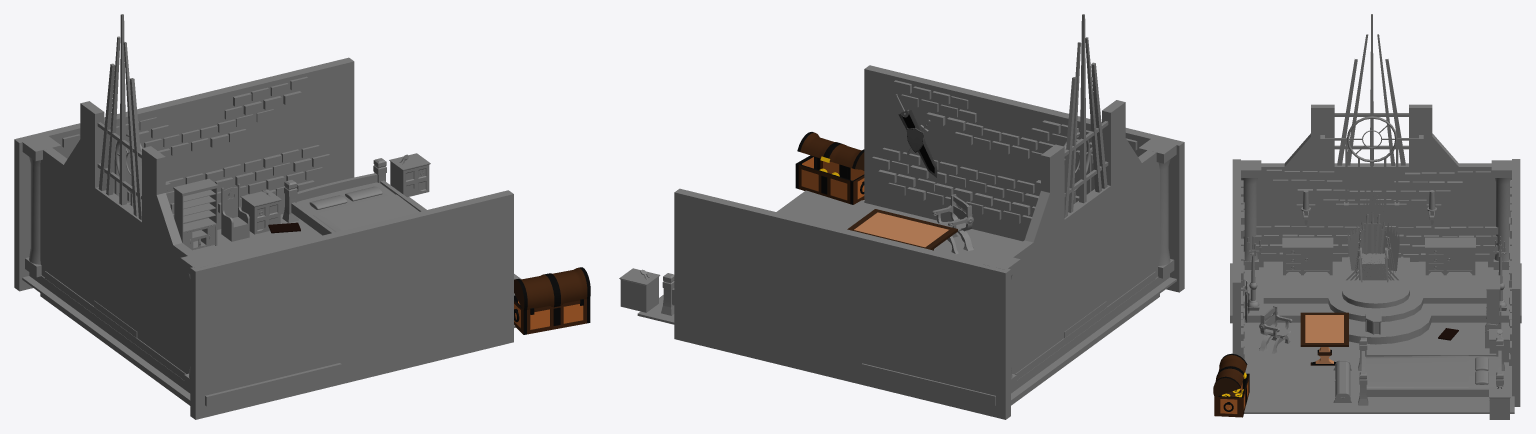
Rendered from CP_NabytekHraoTruny.obj.
3 views of the same model, side by side, from view 1: azimuth 30°, elevation 25°; view 2: azimuth 150°, elevation 25°; view 3: azimuth 270°, elevation 25° (orthographic). The views are drawn at different scales.
Parts seen in each view (by area): view 1: Stavba Purnoch_SinStrunem pCube255, Stavba Purnoch_SinStrunem pCube5, Stavba Purnoch_SinStrunem pCube256, Stavba Purnoch_SinStrunem pCube257, pCube1 Stavba Purnoch_SinStrunem, Project Jirku_Postel Bed pCylinder1, Stavba Purnoch_SinStrunem pCube21, Vejnarek_Nabytek pCylinder10 viko Truhla, Stavba Purnoch_SinStrunem pCube22, Vejnarek_Nabytek Truhla Viko Krabka, Project Jirku_Postel Night_Table1, Bounla MedievalCloset Base (+13 smaller); view 2: Stavba Purnoch_SinStrunem pCube256, Stavba Purnoch_SinStrunem pCube5, Stavba Purnoch_SinStrunem pCube255, Stavba Purnoch_SinStrunem pCube257, pCube1 Stavba Purnoch_SinStrunem, Stavba Purnoch_SinStrunem pCube22, Deska_stolu Stul Vejnarek_Nabytek, Vejnarek_Nabytek Truhla Viko Krabka, Stavba Purnoch_SinStrunem pCube21, Project Jirku_Postel Night_Table1, Vejnarek_Nabytek pCylinder10 viko Truhla, Stavba Purnoch_SinStrunem pCube2 (+7 smaller); view 3: Stavba Purnoch_SinStrunem pCube257, Stavba Purnoch_SinStrunem pCube5, Stavba Purnoch_SinStrunem pCube2, Project Jirku_Postel Bed pCylinder1, pCube1 Stavba Purnoch_SinStrunem, Stavba Purnoch_SinStrunem pCube256, Stavba Purnoch_SinStrunem pCube22, Stavba Purnoch_SinStrunem pCube21, Stavba Purnoch_SinStrunem pCylinder1, Stavba Purnoch_SinStrunem pCube255, Deska_stolu Stul Vejnarek_Nabytek, Project Jirku_Postel Bed pCube5 (+28 smaller).
Boxes of the visible parts, box(x1,y1,x2,y2) form: Stavba Purnoch_SinStrunem pCube255: box(190, 190, 513, 419); Stavba Purnoch_SinStrunem pCube5: box(40, 148, 196, 405); Stavba Purnoch_SinStrunem pCube256: box(14, 57, 354, 291); Stavba Purnoch_SinStrunem pCube257: box(22, 197, 521, 402); pCube1 Stavba Purnoch_SinStrunem: box(29, 272, 341, 406); Project Jirku_Postel Bed pCylinder1: box(296, 182, 419, 231); Stavba Purnoch_SinStrunem pCube21: box(142, 146, 182, 249); Vejnarek_Nabytek pCylinder10 viko Truhla: box(514, 267, 590, 310); Stavba Purnoch_SinStrunem pCube22: box(62, 101, 104, 187); Vejnarek_Nabytek Truhla Viko Krabka: box(514, 295, 590, 334); Project Jirku_Postel Night_Table1: box(389, 153, 430, 197); Bounla MedievalCloset Base: box(174, 187, 217, 250); Stavba Purnoch_SinStrunem pCube256: box(674, 188, 1010, 419); Stavba Purnoch_SinStrunem pCube5: box(1004, 150, 1159, 405); Stavba Purnoch_SinStrunem pCube255: box(864, 65, 1184, 292); Stavba Purnoch_SinStrunem pCube257: box(637, 190, 1176, 402); pCube1 Stavba Purnoch_SinStrunem: box(861, 274, 1169, 405); Stavba Purnoch_SinStrunem pCube22: box(1025, 144, 1064, 247); Deska_stolu Stul Vejnarek_Nabytek: box(847, 209, 957, 249); Vejnarek_Nabytek Truhla Viko Krabka: box(795, 155, 864, 204); Stavba Purnoch_SinStrunem pCube21: box(1102, 100, 1141, 185); Project Jirku_Postel Night_Table1: box(619, 268, 660, 312); Vejnarek_Nabytek pCylinder10 viko Truhla: box(797, 132, 864, 169); Stavba Purnoch_SinStrunem pCube2: box(1015, 271, 1155, 379); Stavba Purnoch_SinStrunem pCube257: box(1243, 322, 1514, 413); Stavba Purnoch_SinStrunem pCube5: box(1256, 163, 1495, 267); Stavba Purnoch_SinStrunem pCube2: box(1263, 261, 1487, 303); Project Jirku_Postel Bed pCylinder1: box(1365, 355, 1498, 387); pCube1 Stavba Purnoch_SinStrunem: box(1230, 263, 1521, 323); Stavba Purnoch_SinStrunem pCube256: box(1512, 159, 1520, 406); Stavba Purnoch_SinStrunem pCube22: box(1409, 104, 1460, 170); Stavba Purnoch_SinStrunem pCube21: box(1283, 104, 1334, 170); Stavba Purnoch_SinStrunem pCylinder1: box(1321, 305, 1431, 344); Stavba Purnoch_SinStrunem pCube255: box(1232, 159, 1240, 356); Deska_stolu Stul Vejnarek_Nabytek: box(1300, 312, 1348, 346); Project Jirku_Postel Bed pCube5: box(1366, 353, 1496, 396).
Size of the model in its own units: 25.29 by 20.58 by 21.44.
